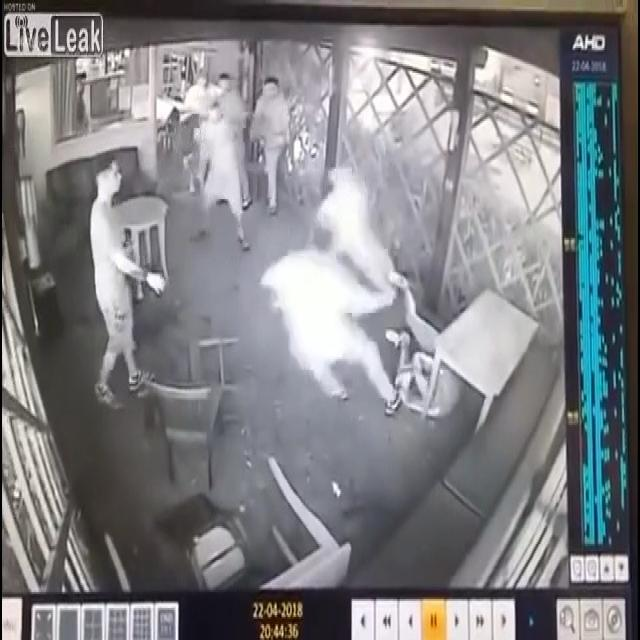fight: (259, 156, 404, 422)
